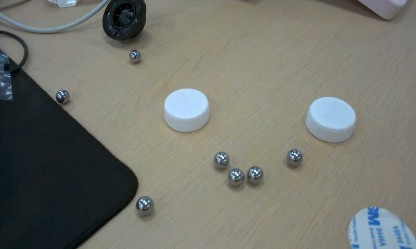ironball: (135, 196, 153, 217), (246, 165, 263, 185), (227, 167, 243, 187), (286, 148, 302, 166), (213, 151, 229, 169), (55, 88, 69, 104), (128, 49, 140, 62)
